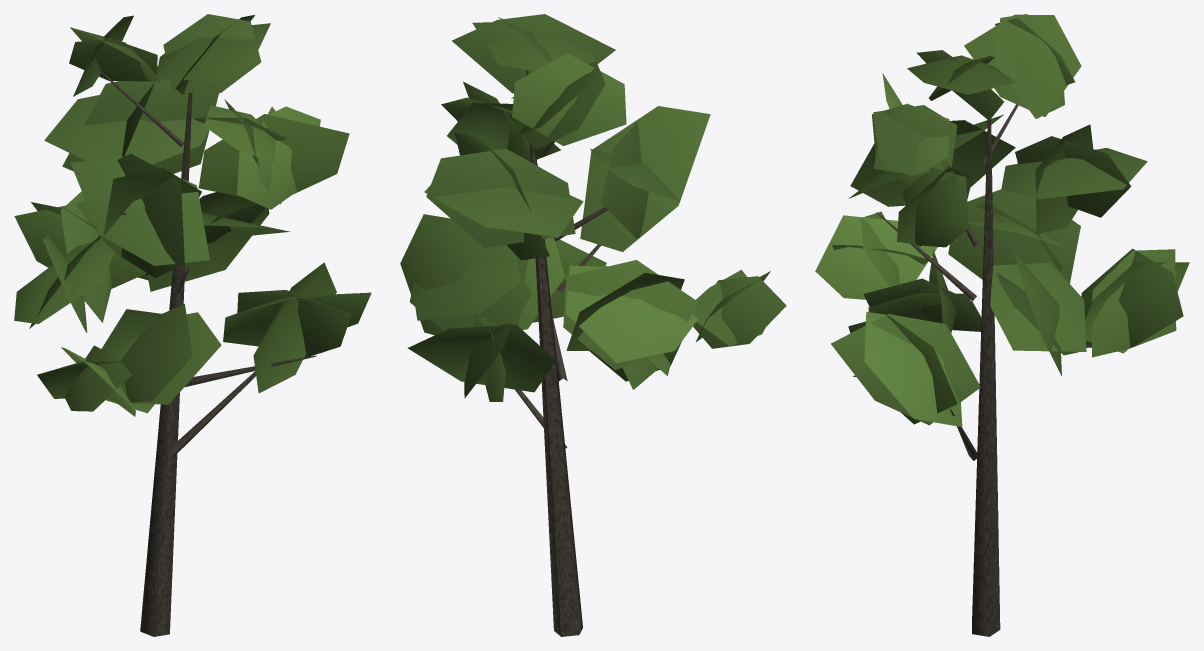
Rendered from asymmetric_06_lod3.glb.
3 views of the same model, side by side, from view 1: azimuth 30°, elevation 25°; view 2: azimuth 150°, elevation 25°; view 3: azimuth 270°, elevation 25° (orthographic).
Parts seen in each view (by area): view 1: individual_curved_leaf_sprigs, retained_branches_0; view 2: individual_curved_leaf_sprigs, retained_branches_0; view 3: individual_curved_leaf_sprigs, retained_branches_0.
Part boxes in pixels (x1,y1,x2,y2): individual_curved_leaf_sprigs: (14, 14, 371, 416); retained_branches_0: (91, 63, 316, 636); individual_curved_leaf_sprigs: (400, 14, 786, 401); retained_branches_0: (515, 70, 607, 636); individual_curved_leaf_sprigs: (815, 14, 1189, 426); retained_branches_0: (853, 104, 1018, 636).
Bounding box in the file's own units: 6.08 × 10.42 × 5.84.
2 materials, 1 textured.
